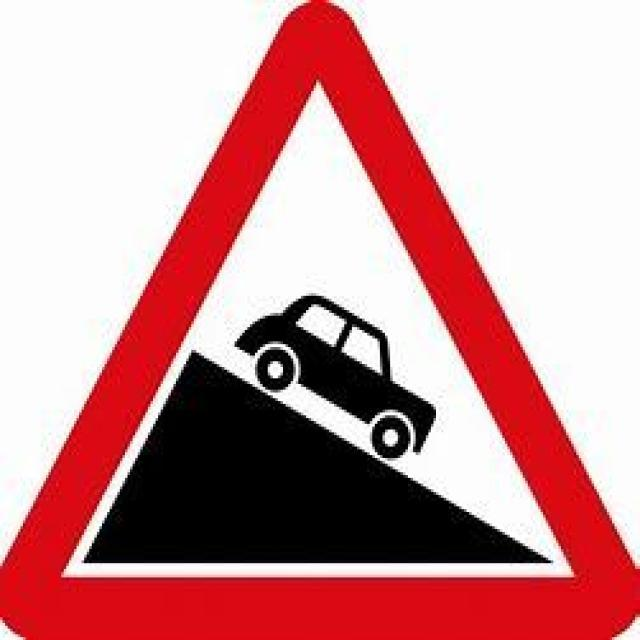steep descent: (29, 31, 594, 602)
